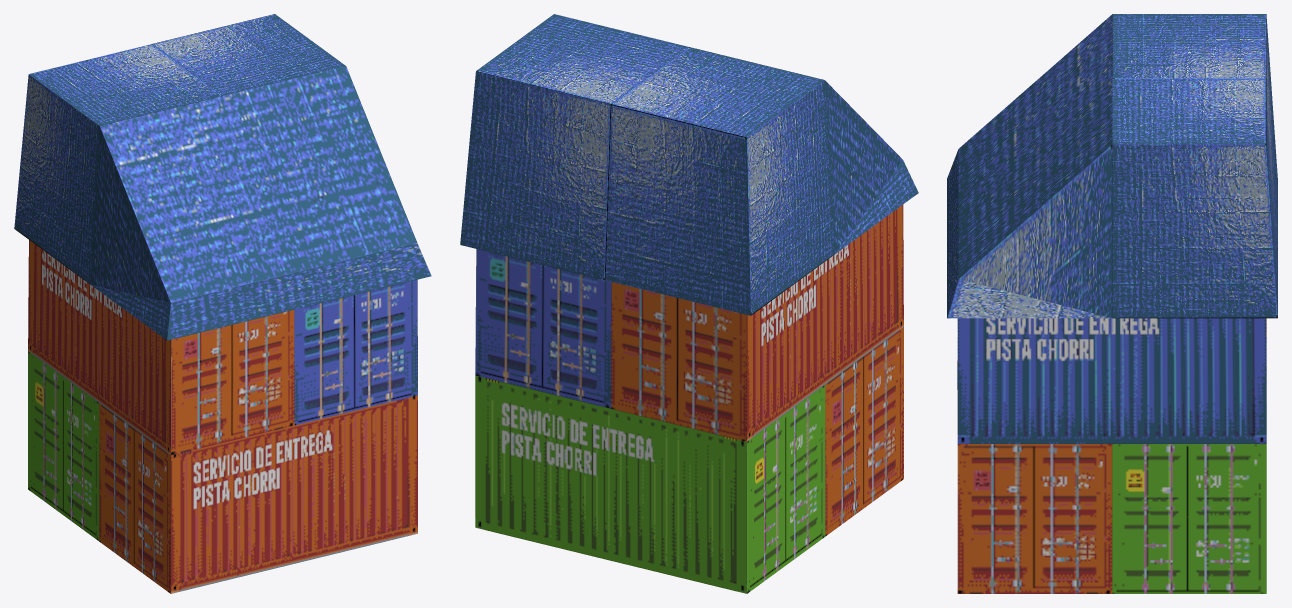
Rendered from ContainerRampa-4x6x4.fbx.
The picture shows the model from 3 angles, left to right: view 1: azimuth 30°, elevation 25°; view 2: azimuth 150°, elevation 25°; view 3: azimuth 270°, elevation 25°; orthographic projection. The views are drawn at different scales.
Parts seen in each view (by area): view 1: ContainerRampa-4x6x4; view 2: ContainerRampa-4x6x4; view 3: ContainerRampa-4x6x4.
Part boxes in pixels (x1,y1,x2,y2): ContainerRampa-4x6x4: [14, 14, 431, 593]; ContainerRampa-4x6x4: [460, 14, 918, 593]; ContainerRampa-4x6x4: [947, 14, 1277, 593].
Bounding box in the file's own units: 4 × 6 × 4.
